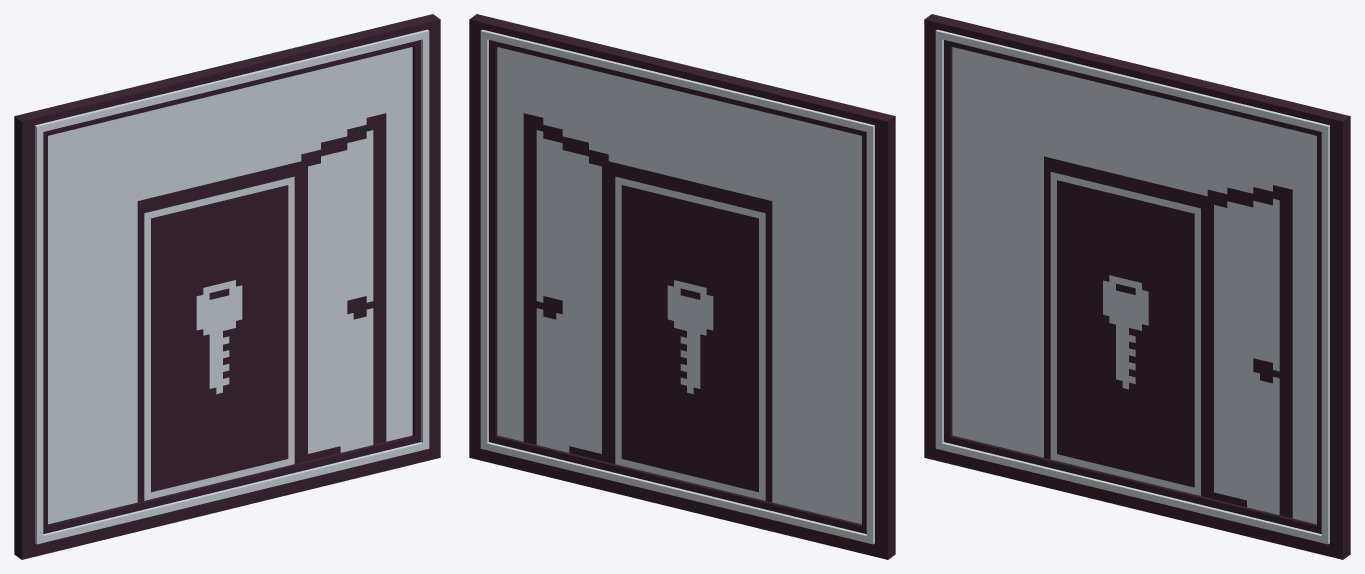
The model's file is Doorway to Key.fbx.
3 views of the same model, side by side, from view 1: azimuth 30°, elevation 25°; view 2: azimuth 150°, elevation 25°; view 3: azimuth 330°, elevation 25° (orthographic).
Parts seen in each view (by area): view 1: generated; view 2: generated; view 3: generated.
Boxes of the visible parts, x1,y1,x2,y2 form: generated: (14, 14, 440, 559); generated: (469, 14, 895, 559); generated: (924, 14, 1350, 559).
Bounding box in the file's own units: 2560 × 2560 × 120.
